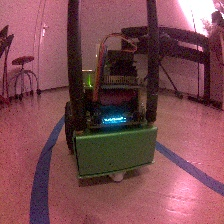rob: (63, 48, 158, 181)
